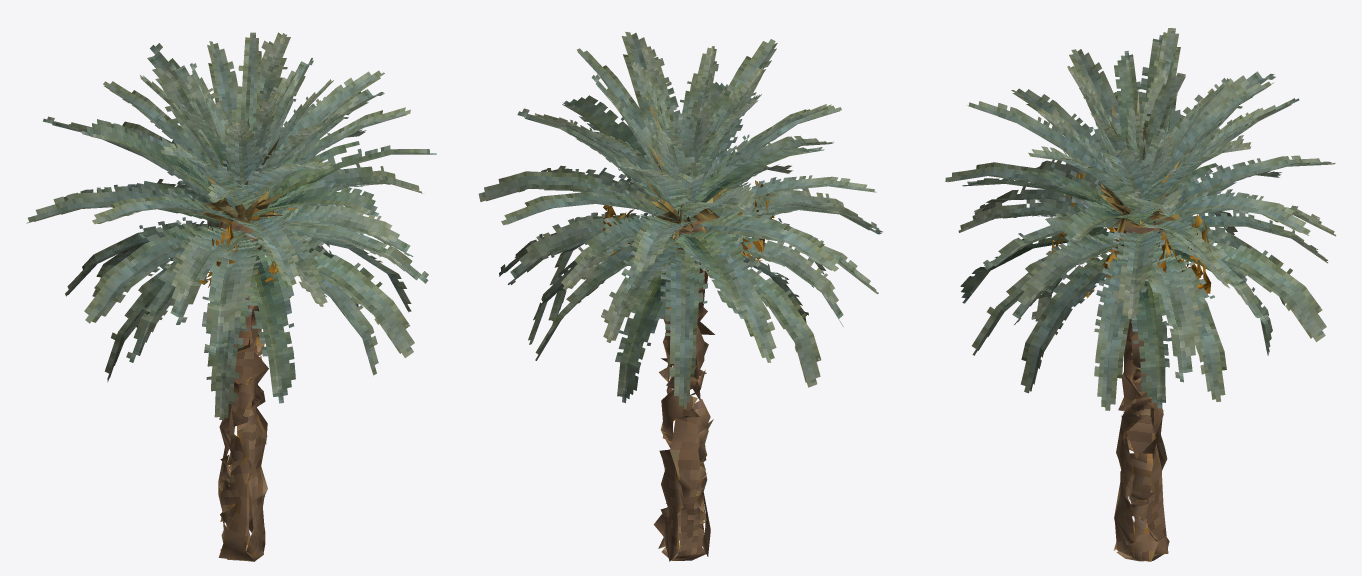
Rendered from datepalm.glb.
3 renders of one model, left to right at view 1: azimuth 30°, elevation 25°; view 2: azimuth 150°, elevation 25°; view 3: azimuth 270°, elevation 25°, orthographic.
Visible parts, largest first — view 1: b_fronds, a_trunk.001; view 2: b_fronds, a_trunk.001; view 3: b_fronds, a_trunk.001.
Boxes of the visible parts, box(x1,y1,x2,y2) form: b_fronds: box(26, 32, 436, 420); a_trunk.001: box(198, 104, 295, 561); b_fronds: box(478, 31, 882, 408); a_trunk.001: box(602, 97, 774, 561); b_fronds: box(945, 28, 1336, 410); a_trunk.001: box(1051, 89, 1211, 561).
Bounding box in the file's own units: 7.94 × 10 × 7.49.
Materials: 2 (2 with a texture image).
